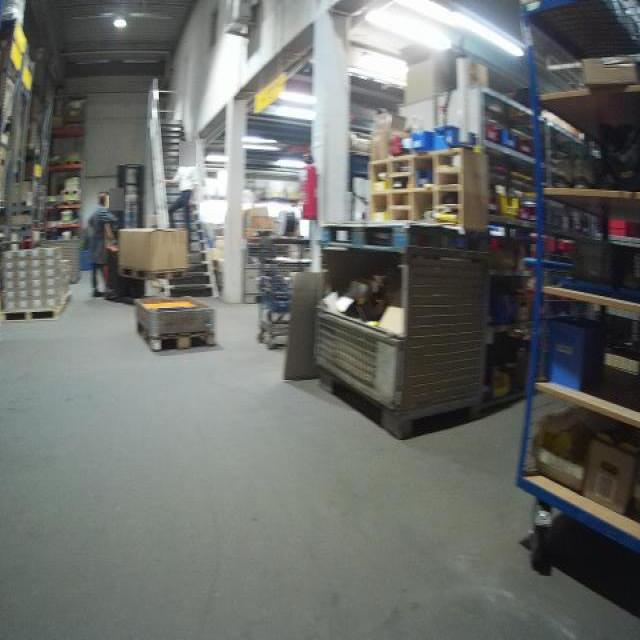pallet: (133, 316, 220, 357), (1, 293, 71, 325), (114, 262, 191, 282)
pallet_truck: (91, 157, 154, 301)
small_load_carrier: (543, 317, 605, 395), (574, 241, 631, 292)
stillage: (312, 238, 500, 448), (236, 234, 305, 308), (37, 238, 86, 287)
